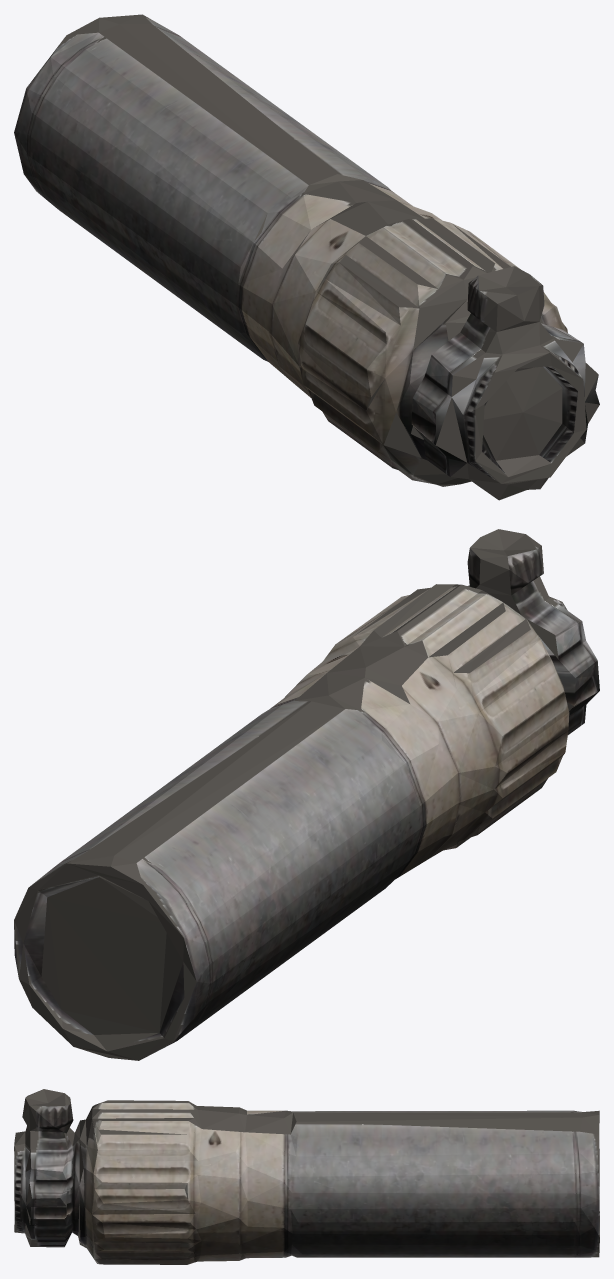
The model's file is suppressor.glb.
The picture shows the model from 3 angles, top to bottom: view 1: azimuth 30°, elevation 25°; view 2: azimuth 150°, elevation 25°; view 3: azimuth 270°, elevation 25°; orthographic projection. The views are drawn at different scales.
Parts seen in each view (by area): view 1: Mesh_0; view 2: Mesh_0; view 3: Mesh_0.
Boxes of the visible parts, x1,y1,x2,y2 form: Mesh_0: (14, 14, 599, 500); Mesh_0: (14, 529, 599, 1060); Mesh_0: (14, 1089, 599, 1264).
Size of the model in its own units: 0.056 by 0.0597 by 0.2.
Materials: 1 (1 with a texture image).
